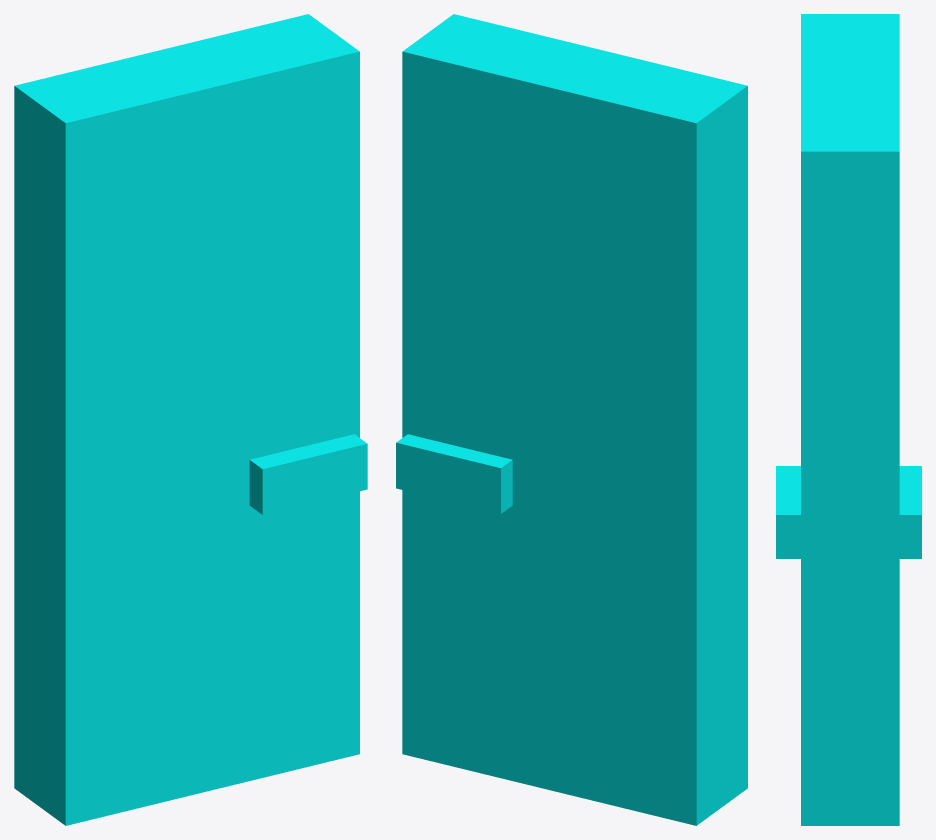
File: Door.fbx
3 renders of one model, left to right at view 1: azimuth 30°, elevation 25°; view 2: azimuth 150°, elevation 25°; view 3: azimuth 270°, elevation 25°, orthographic. The views are drawn at different scales.
Parts seen in each view (by area): view 1: door; view 2: door; view 3: door.
Part boxes in pixels (x1,y1,x2,y2): door: (14,14,367,825); door: (396,14,747,825); door: (776,14,921,825).
Bounding box in the file's own units: 3.31 × 7.55 × 1.48.
